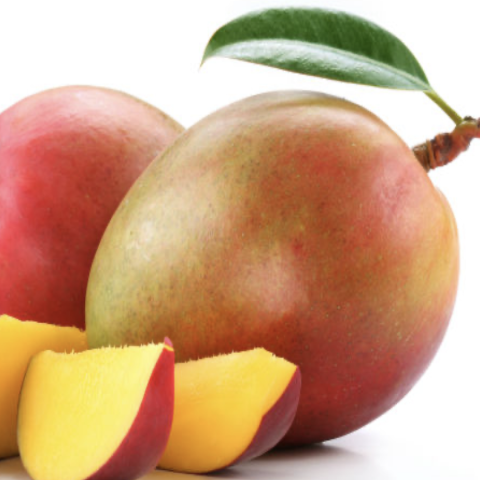mango: (63, 87, 479, 451)
